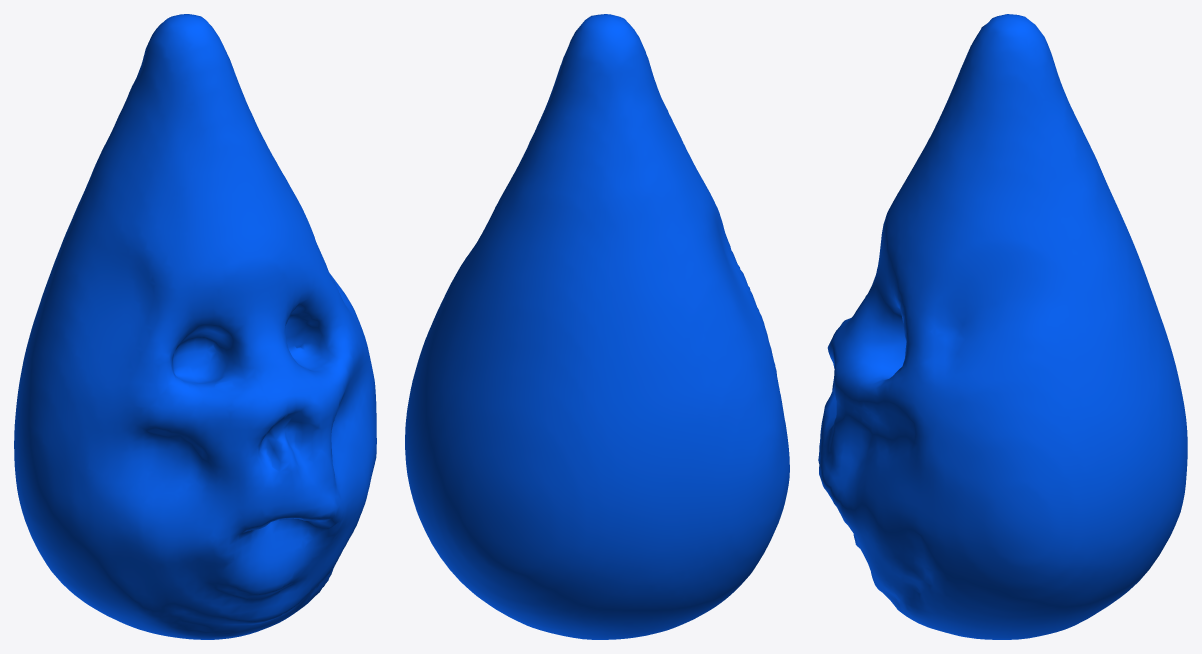
Rendered from TearEnemy.fbx.
The picture shows the model from 3 angles, left to right: view 1: azimuth 30°, elevation 25°; view 2: azimuth 150°, elevation 25°; view 3: azimuth 270°, elevation 25°; orthographic projection.
Parts seen in each view (by area): view 1: Mball.002; view 2: Mball.002; view 3: Mball.002.
Part boxes in pixels (box(x1,y1,x2,y2)): Mball.002: box(14, 14, 376, 639); Mball.002: box(405, 14, 789, 639); Mball.002: box(818, 14, 1187, 639).
Size of the model in its own units: 297 by 508 by 284.
